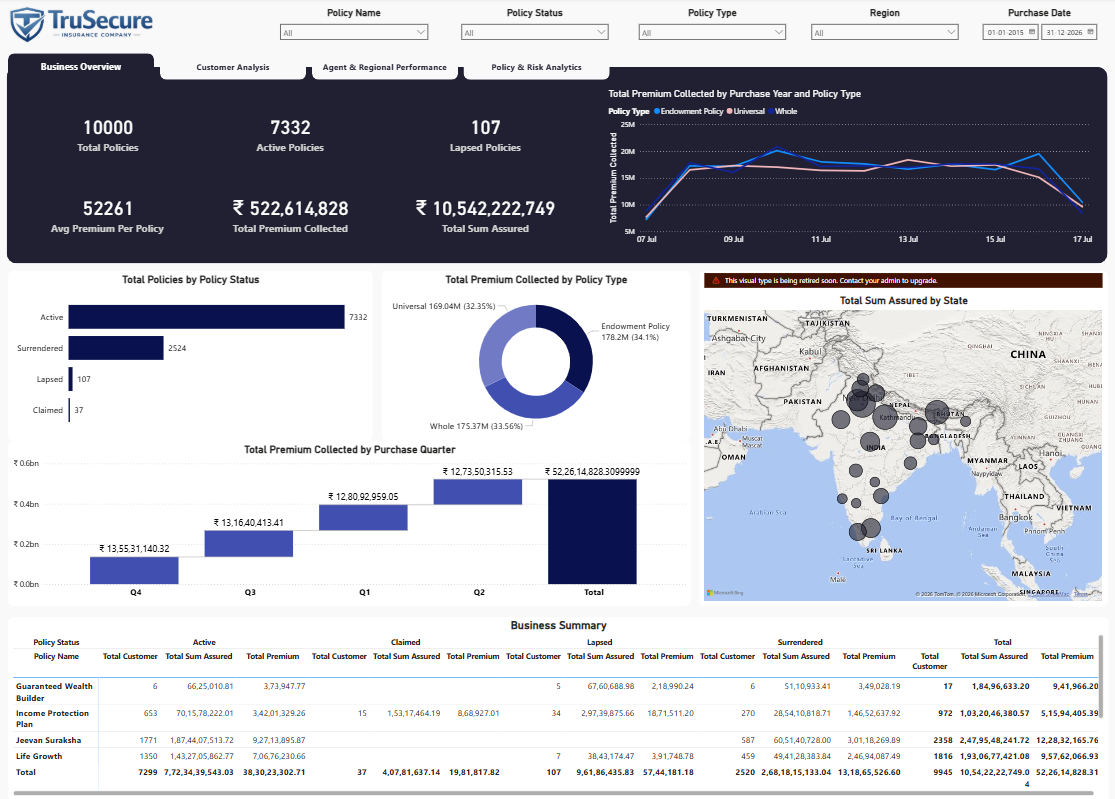

What the dashboard file says about the page in this screenshot:
{"tool":"powerbi","page":{"name":"Business Overview","canvas":[1940,1400],"ordinal":0},"visuals":[{"type":"shape","box":[15.6,120.3,1906,340],"z":0},{"type":"advanceCardE03760C5AB684758B56AA29F9E6C257B","fields":{"mainMeasure":["Measure.Active Policies"]},"box":[347.6,178.3,316,120],"z":1000},{"type":"advanceCardE03760C5AB684758B56AA29F9E6C257B","fields":{"mainMeasure":["Measure.Total Policies"]},"box":[31.6,178.3,316,120],"z":2000},{"type":"advanceCardE03760C5AB684758B56AA29F9E6C257B","fields":{"mainMeasure":["Measure.Total Premium Collected"]},"box":[347.6,318.3,316,120],"z":3000},{"type":"advanceCardE03760C5AB684758B56AA29F9E6C257B","fields":{"mainMeasure":["Measure.Lapsed Policies"]},"box":[685.6,178.3,316,120],"z":4000},{"type":"advanceCardE03760C5AB684758B56AA29F9E6C257B","fields":{"mainMeasure":["Measure.Avg Premium Per Policy"]},"box":[31.6,318.3,316,120],"z":5000},{"type":"advanceCardE03760C5AB684758B56AA29F9E6C257B","fields":{"mainMeasure":["Measure.Total Sum Assured"]},"box":[685.6,318.3,316,120],"z":6000},{"type":"clusteredBarChart","fields":{"Category":["FCT Insurance_Policy_Table.Policy Status"],"Y":["Measure.Total Policies"]},"box":[18.3,473.4,631.9,294.6],"z":7000},{"type":"donutChart","fields":{"Category":["DM Policy_Type.Policy Type"],"Y":["Measure.Total Premium Collected"]},"box":[664.4,473.4,534.4,294.6],"z":8000},{"type":"lineChart","fields":{"Y":["Measure.Total Premium Collected"],"Category":["FCT Insurance_Policy_Table.Purchase Year"],"Series":["DM Policy_Type.Policy Type"]},"box":[1051.6,158.3,848,280],"z":9000},{"type":"slicer","title":"Policy Status","fields":{"Values":["DM Zonal_Manager.Zonal Manager Name","FCT Insurance_Policy_Table.Policy Status"]},"box":[793.2,17.7,275.1,70],"z":10000},{"type":"slicer","title":"Region","fields":{"Values":["DM Regional_Manager.Region"]},"box":[1398.8,17.4,275,70],"z":11000},{"type":"slicer","title":"Purchase Date","fields":{"Values":["Calendar.Date"]},"box":[1693.1,17.8,222,70],"z":12000},{"type":"slicer","title":"Policy Type","fields":{"Values":["FCT Insurance_Policy_Table.Tenure Band"]},"box":[1100.1,17.7,275.1,70],"z":13000},{"type":"map","fields":{"Category":["FCT Insurance_Policy_Table.State"],"Size":["Measure.Total Sum Assured"]},"box":[1215,473.4,707.1,581.1],"z":14000},{"type":"waterfallChart","fields":{"Category":["FCT Insurance_Policy_Table.Purchase Quarter"],"Y":["Measure.Total Premium Collected"]},"box":[18.3,768,1182.5,286.5],"z":15000},{"type":"pivotTable","title":"Business Summary","fields":{"Values":["Count(FCT Insurance_Policy_Table.Customer ID)","Measure.Total Sum Assured","Measure.Total Premium Collected"],"Columns":["FCT Insurance_Policy_Table.Policy Status"],"Rows":["DM Policy_Protection_Plan.Policy Name"]},"box":[18.3,1072.8,1905.9,319],"z":16000},{"type":"pageNavigator","box":[16.3,97.5,1044.4,46.7],"z":17000},{"type":"image","box":[0,0,288,88],"z":18000},{"type":"slicer","title":"Policy Name","fields":{"Values":["DM Policy_Protection_Plan.Policy Name"]},"box":[477.5,18.3,276.3,69.1],"z":18001}]}

Visuals, with their boxes in screenshot pixels (x1, y1, x2, y2), scaled from the page's 1940x1400 canvas onto the 1115x799 screenshot:
shape: (left=9, top=69, right=1104, bottom=263)
advanceCardE03760C5AB684758B56AA29F9E6C257B - Measure.Active Policies: (left=200, top=102, right=381, bottom=170)
advanceCardE03760C5AB684758B56AA29F9E6C257B - Measure.Total Policies: (left=18, top=102, right=200, bottom=170)
advanceCardE03760C5AB684758B56AA29F9E6C257B - Measure.Total Premium Collected: (left=200, top=182, right=381, bottom=250)
advanceCardE03760C5AB684758B56AA29F9E6C257B - Measure.Lapsed Policies: (left=394, top=102, right=576, bottom=170)
advanceCardE03760C5AB684758B56AA29F9E6C257B - Measure.Avg Premium Per Policy: (left=18, top=182, right=200, bottom=250)
advanceCardE03760C5AB684758B56AA29F9E6C257B - Measure.Total Sum Assured: (left=394, top=182, right=576, bottom=250)
clusteredBarChart - FCT Insurance_Policy_Table.Policy Status x Measure.Total Policies: (left=11, top=270, right=374, bottom=438)
donutChart - DM Policy_Type.Policy Type x Measure.Total Premium Collected: (left=382, top=270, right=689, bottom=438)
lineChart - Measure.Total Premium Collected x FCT Insurance_Policy_Table.Purchase Year: (left=604, top=90, right=1092, bottom=250)
"Policy Status" slicer: (left=456, top=10, right=614, bottom=50)
"Region" slicer: (left=804, top=10, right=962, bottom=50)
"Purchase Date" slicer: (left=973, top=10, right=1101, bottom=50)
"Policy Type" slicer: (left=632, top=10, right=790, bottom=50)
map - FCT Insurance_Policy_Table.State x Measure.Total Sum Assured: (left=698, top=270, right=1105, bottom=602)
waterfallChart - FCT Insurance_Policy_Table.Purchase Quarter x Measure.Total Premium Collected: (left=11, top=438, right=690, bottom=602)
"Business Summary" pivotTable: (left=11, top=612, right=1106, bottom=794)
pageNavigator: (left=9, top=56, right=610, bottom=82)
image: (left=0, top=0, right=166, bottom=50)
"Policy Name" slicer: (left=274, top=10, right=433, bottom=50)
